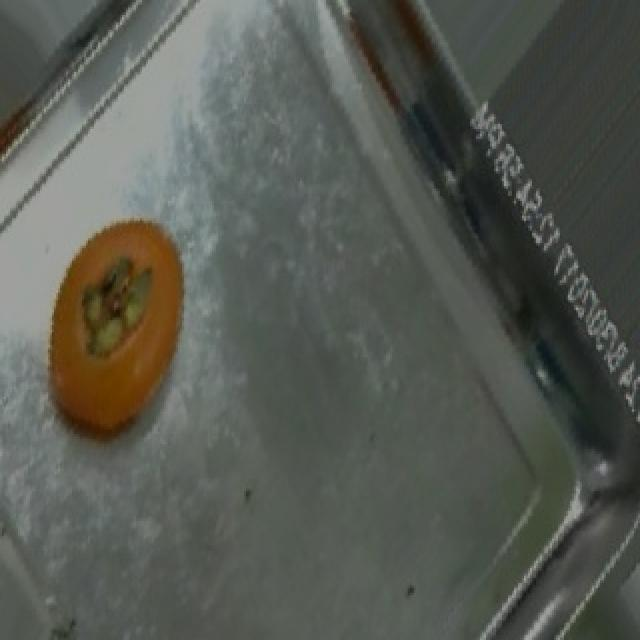Fruit: (14, 198, 212, 446)
